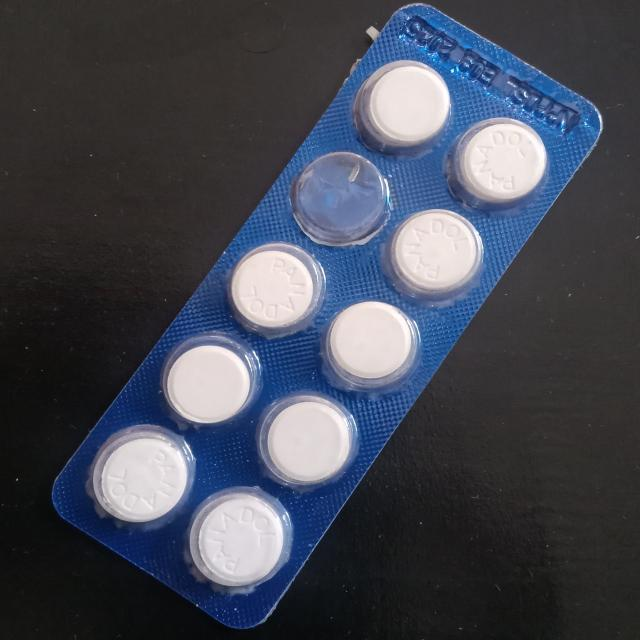defect: (289, 149, 395, 245)
